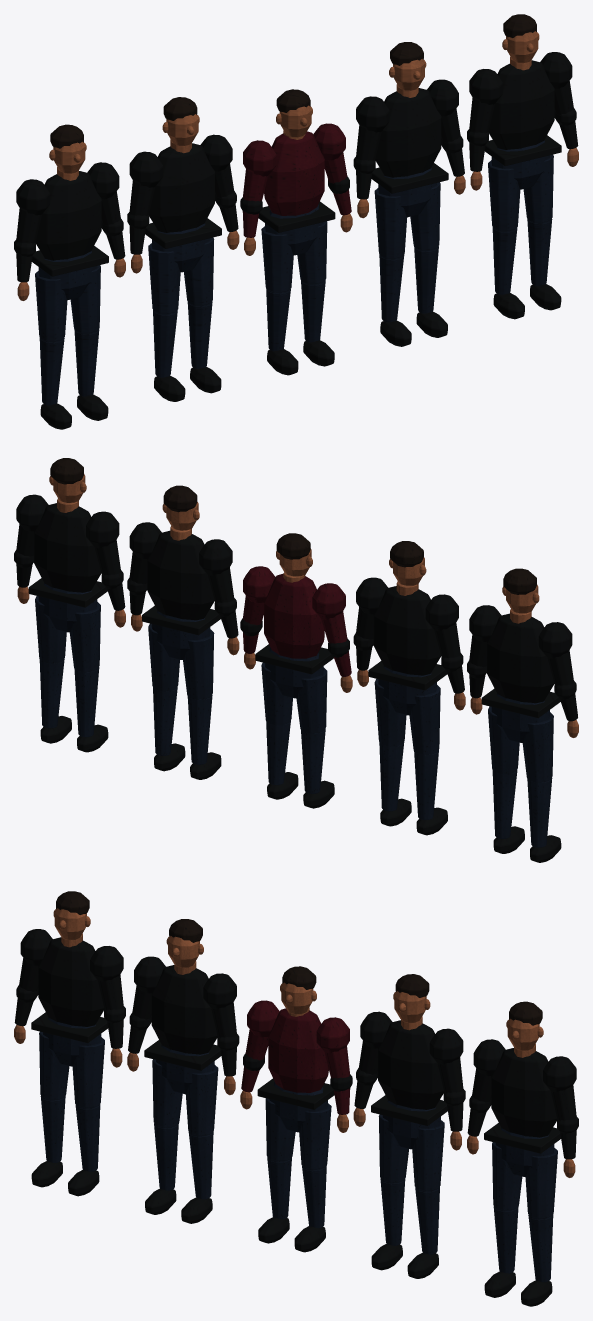
File: PROP-CF476531CEB6_lod1.glb
3 renders of one model, top to bottom at view 1: azimuth 30°, elevation 25°; view 2: azimuth 150°, elevation 25°; view 3: azimuth 330°, elevation 25°, orthographic.
Visible parts, largest first — view 1: torso.011, thigh.010, calf.010, shoulder.011, shoe.010, belt.010, pelvis.010, upper_arm.011, torso.012, head.010, hair_cap.010, forearm.011 (+7 smaller); view 2: torso.011, thigh.010, calf.010, shoulder.011, pelvis.010, shoe.010, belt.010, upper_arm.011, torso.012, hair_cap.010, elbow_protection.006, head.010 (+6 smaller); view 3: torso.011, thigh.010, calf.010, shoulder.011, shoe.010, belt.010, pelvis.010, upper_arm.011, torso.012, head.010, hair_cap.010, forearm.011 (+7 smaller).
Boxes of the visible parts, box(x1,y1,x2,y2) form: torso.011: box(35, 60, 554, 260); thigh.010: box(35, 154, 553, 341); calf.010: box(39, 219, 552, 405); shoulder.011: box(16, 52, 572, 215); shoe.010: box(40, 284, 561, 429); belt.010: box(32, 135, 561, 276); pelvis.010: box(38, 140, 549, 299); upper_arm.011: box(16, 81, 573, 243); torso.012: box(264, 131, 324, 215); head.010: box(53, 31, 538, 173); hair_cap.010: box(50, 14, 536, 148); forearm.011: box(16, 121, 578, 282); torso.011: box(34, 503, 554, 703); thigh.010: box(35, 596, 553, 782); calf.010: box(39, 659, 552, 847); shoulder.011: box(16, 494, 572, 658); pelvis.010: box(38, 583, 549, 742); shoe.010: box(40, 716, 561, 862); belt.010: box(28, 578, 560, 718); upper_arm.011: box(16, 524, 573, 685); torso.012: box(264, 574, 324, 658); hair_cap.010: box(50, 458, 536, 594); elbow_protection.006: box(14, 550, 576, 699); head.010: box(53, 474, 538, 613); torso.011: box(38, 937, 557, 1137); thigh.010: box(39, 1031, 557, 1218); calf.010: box(40, 1096, 553, 1282); shoulder.011: box(20, 929, 576, 1092); shoe.010: box(31, 1161, 552, 1306); belt.010: box(31, 1012, 560, 1153); pelvis.010: box(43, 1017, 554, 1176); upper_arm.011: box(19, 958, 576, 1120); torso.012: box(268, 1008, 328, 1092); head.010: box(54, 908, 539, 1050); hair_cap.010: box(56, 891, 542, 1025); forearm.011: box(14, 998, 576, 1159).
Bounding box in the file's own units: 3.71 × 1.84 × 0.3357.
Materials: 5 (5 with a texture image).
